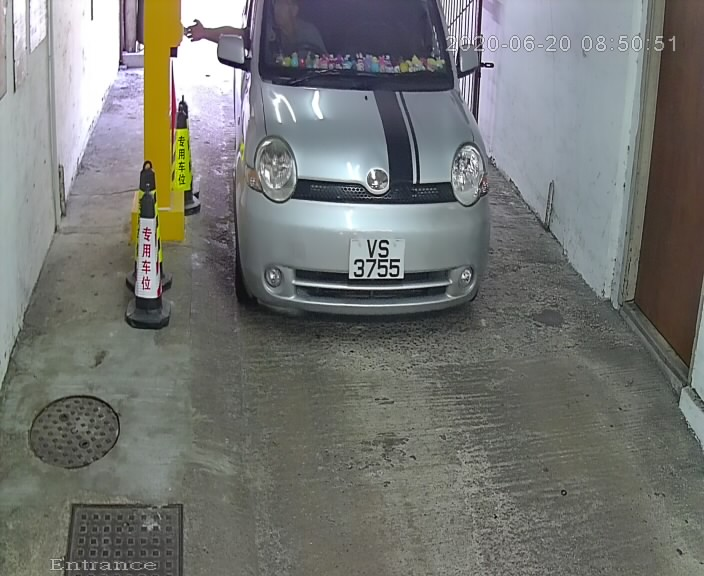privatecar: (214, 3, 509, 327)
